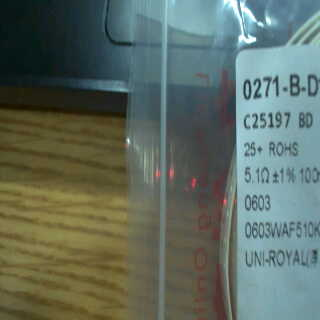5.1R: (243, 162, 273, 187)
